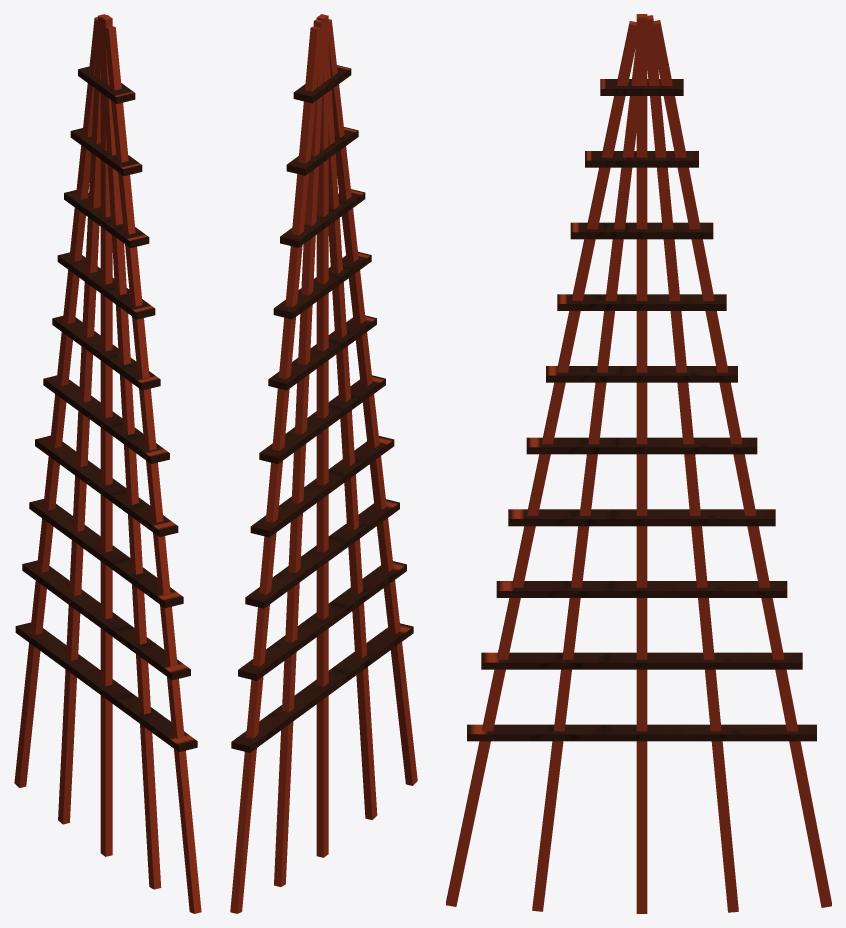
Rendered from Boat_Rigging.fbx.
3 renders of one model, left to right at view 1: azimuth 30°, elevation 25°; view 2: azimuth 150°, elevation 25°; view 3: azimuth 270°, elevation 25°, orthographic. The views are drawn at different scales.
Visible parts, largest first — view 1: Boat_Rigging; view 2: Boat_Rigging; view 3: Boat_Rigging.
Part boxes in pixels (left/top/right/bottom): Boat_Rigging: left=14, top=14, right=201, bottom=913; Boat_Rigging: left=230, top=14, right=417, bottom=913; Boat_Rigging: left=446, top=14, right=831, bottom=913.
Size of the model in its own units: 0.2918 by 12.5 by 4.88.
Materials: 1 (1 with a texture image).
